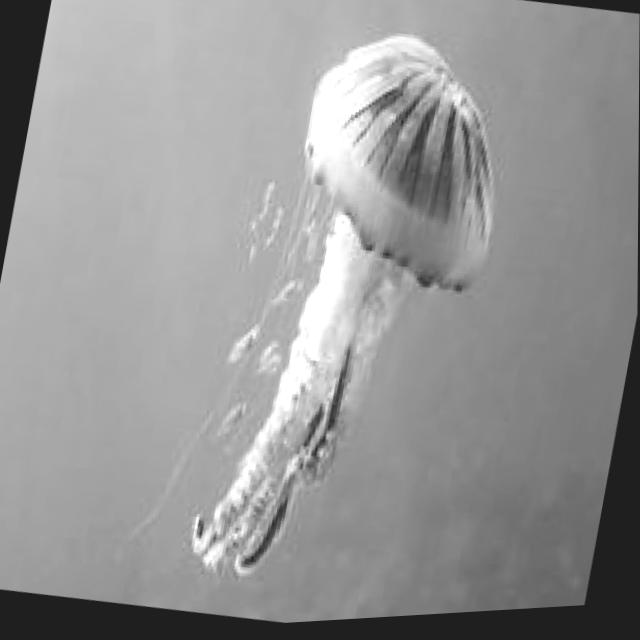Jellyfish: (183, 9, 530, 615)
